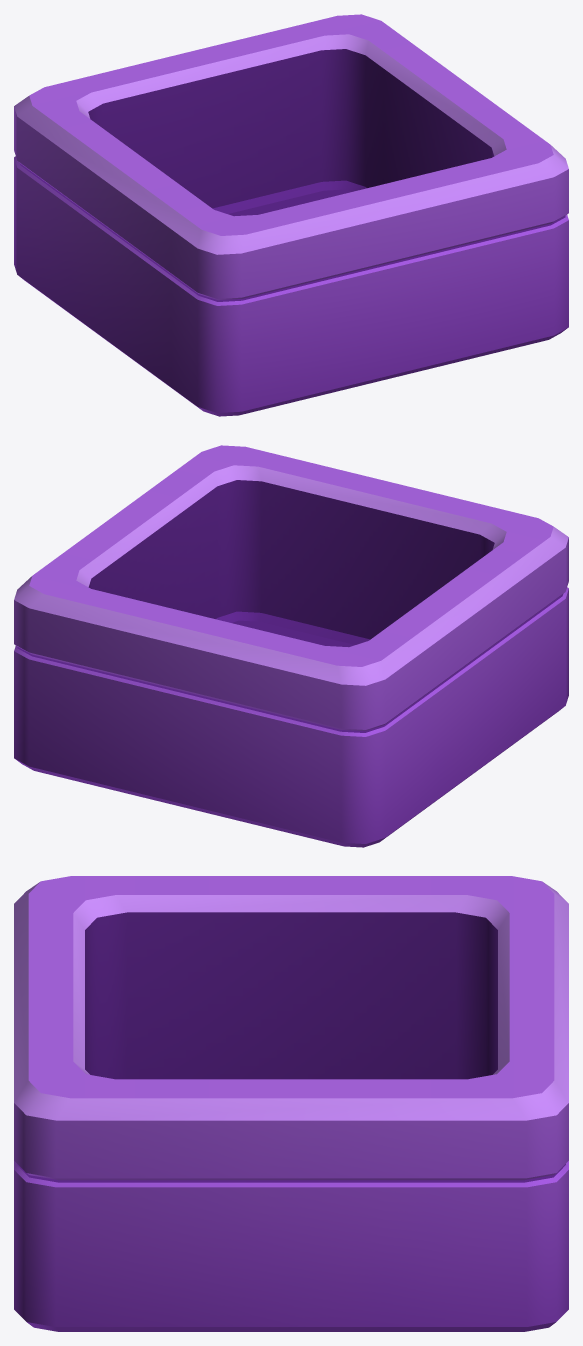
Rendered from Mdl__Box_Purple.fbx.
3 views of the same model, one above another, from view 1: azimuth 30°, elevation 25°; view 2: azimuth 150°, elevation 25°; view 3: azimuth 270°, elevation 25° (orthographic). The views are drawn at different scales.
Visible parts, largest first — view 1: Mesh_Box; view 2: Mesh_Box; view 3: Mesh_Box.
Boxes of the visible parts, x1=… form: Mesh_Box: x1=14, y1=14, x2=568, y2=416; Mesh_Box: x1=14, y1=445, x2=568, y2=847; Mesh_Box: x1=14, y1=876, x2=568, y2=1331.
Bounding box in the file's own units: 520 × 239 × 520.
